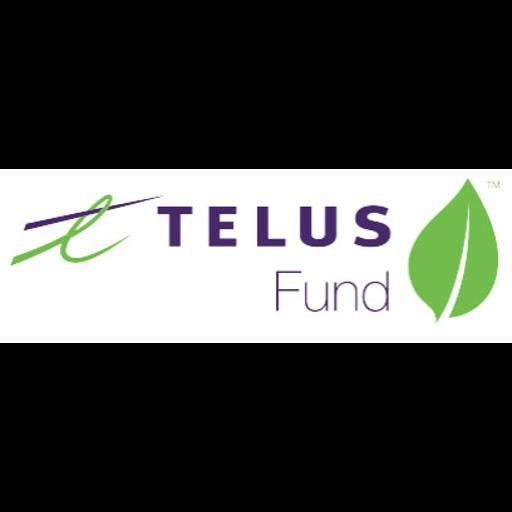Telus: (0, 169, 512, 343)
